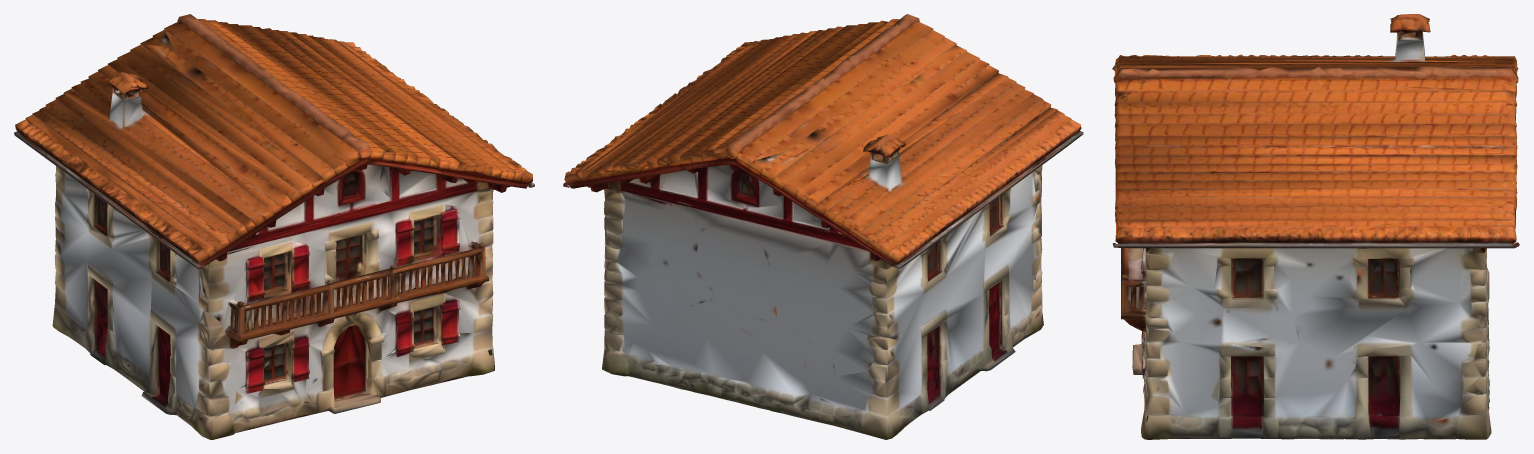
Rendered from caserio-Cymj1Reb.glb.
3 renders of one model, left to right at view 1: azimuth 30°, elevation 25°; view 2: azimuth 150°, elevation 25°; view 3: azimuth 270°, elevation 25°, orthographic. The views are drawn at different scales.
Parts seen in each view (by area): view 1: node_0; view 2: node_0; view 3: node_0.
Boxes of the visible parts, bbox=[...] form: node_0: bbox=[14, 14, 534, 439]; node_0: bbox=[563, 14, 1083, 439]; node_0: bbox=[1112, 14, 1519, 439].
Bounding box in the file's own units: 0.8528 × 0.6486 × 0.8102.
Materials: 1 (1 with a texture image).
